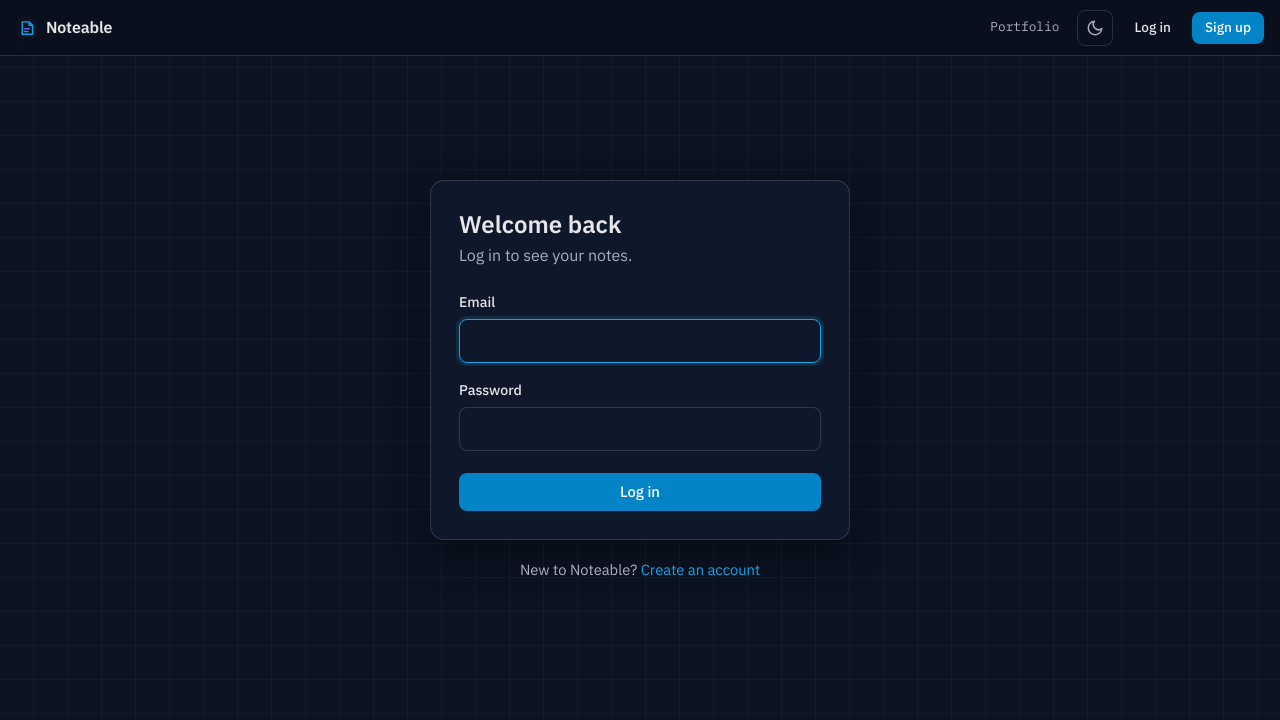
public / private routing › logs in and returns to the page that was requested
In the field labelled "Email": (640, 341) x1=459 y1=319 x2=821 y2=363, type "alice@example.com"
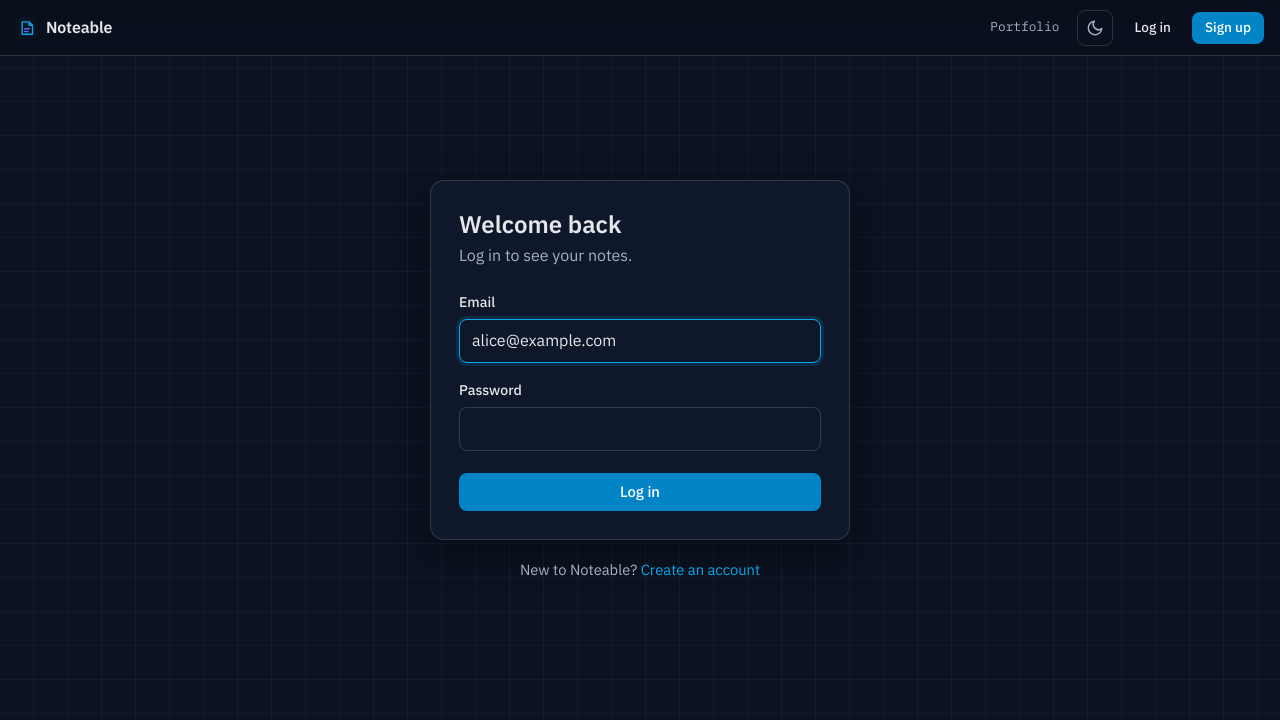
In the password field labelled "Password": (640, 429) x1=459 y1=407 x2=821 y2=451, type "password123"
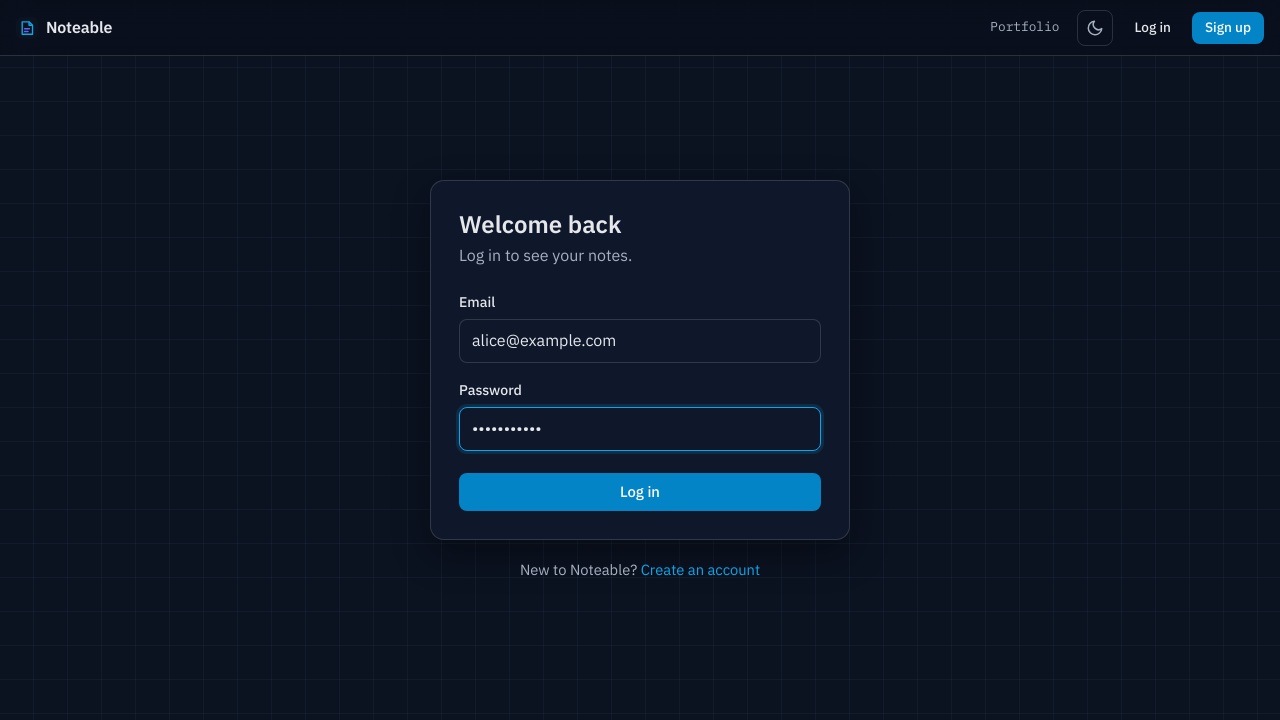
Click the button "Log in": (640, 492) x1=459 y1=473 x2=821 y2=511
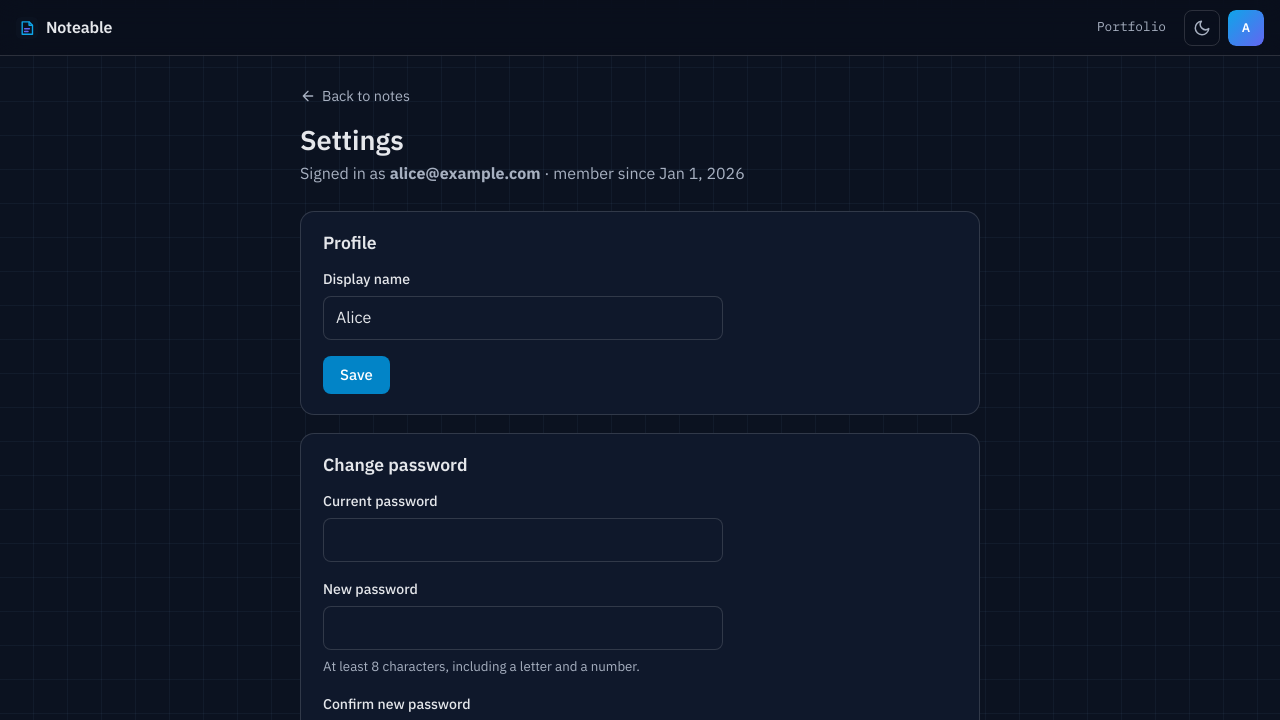
Check: the heading "Settings" is shown, box x1=300 y1=122 x2=404 y2=157
